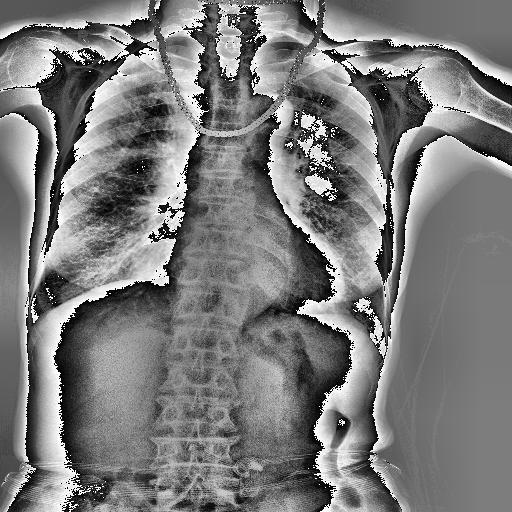0- Aortic enlargement: (250, 90, 294, 152), (242, 93, 294, 134), (244, 96, 294, 132)
3- Cardiomegaly: (173, 229, 347, 303)
5- ILD: (48, 116, 154, 288), (320, 192, 385, 304)
